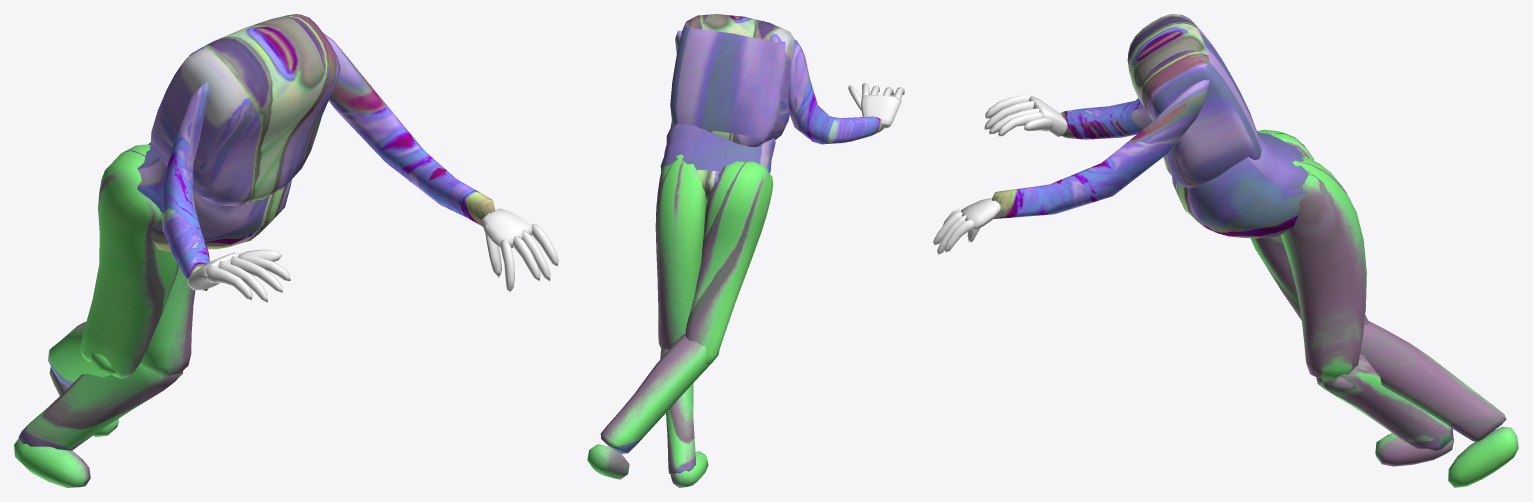
File: SM_A_Girl00.fbx
The picture shows the model from 3 angles, left to right: view 1: azimuth 30°, elevation 25°; view 2: azimuth 150°, elevation 25°; view 3: azimuth 270°, elevation 25°; orthographic projection. The views are drawn at different scales.
Visible parts, largest first — view 1: SM_A_Girl00; view 2: SM_A_Girl00; view 3: SM_A_Girl00.
Boxes of the visible parts, x1,y1,x2,y2 form: SM_A_Girl00: (14,14,558,487); SM_A_Girl00: (587,14,904,487); SM_A_Girl00: (933,14,1518,487).
Bounding box in the file's own units: 93.92 × 155 × 180.
